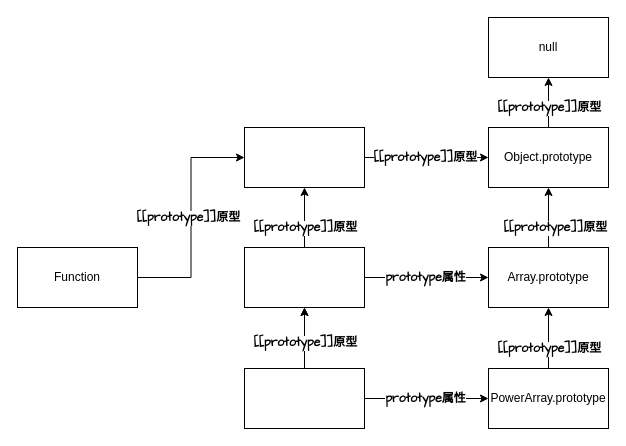
The diagram is 626 pixels wide and 446 high, and some of its shapes have lost their labels. Here are the shapes that lost their labels. From the top down, the box of each, then its label:
(244, 126, 364, 188): Function.prototype
(244, 246, 364, 308): Array
(244, 368, 364, 428): PowerArray
